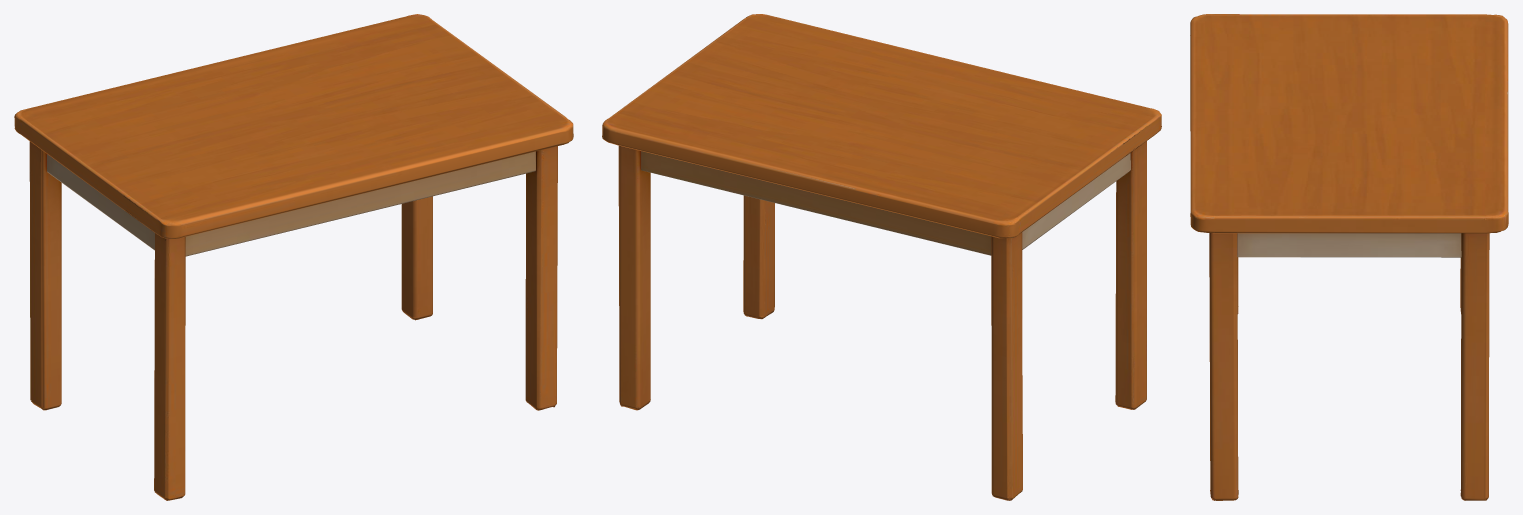
Rendered from apartment-table.glb.
3 views of the same model, side by side, from view 1: azimuth 30°, elevation 25°; view 2: azimuth 150°, elevation 25°; view 3: azimuth 270°, elevation 25° (orthographic).
Parts seen in each view (by area): view 1: apartment-table; view 2: apartment-table; view 3: apartment-table.
Part boxes in pixels (left/top/right/bottom): apartment-table: left=14, top=14, right=573, bottom=500; apartment-table: left=602, top=14, right=1161, bottom=500; apartment-table: left=1190, top=14, right=1508, bottom=500.
Bounding box in the file's own units: 1.2 × 0.8012 × 0.7947.
1 material, 1 textured.
